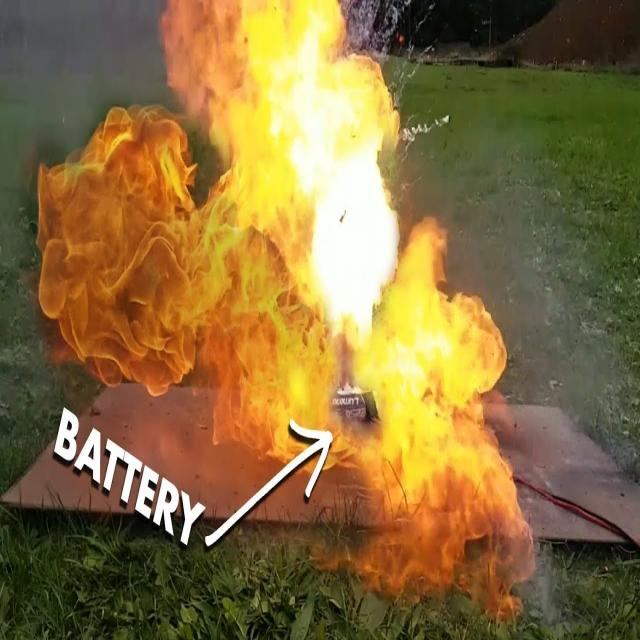fire: (64, 9, 466, 494)
